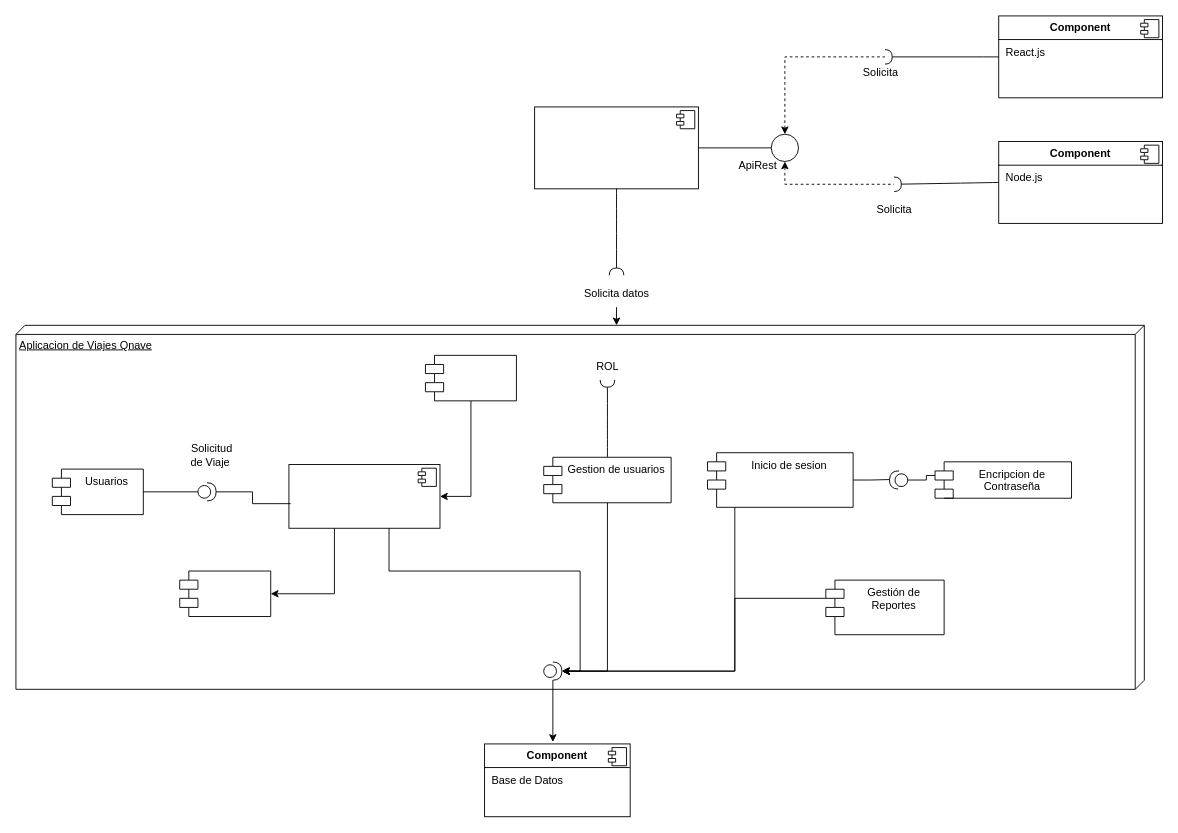
This 1178x833 diagram has some shape labels left out. The box of each missing label's shape, as (x1, y1, x2, y2) in pixels:
Component Gestion de Viajes: (288, 464, 440, 528)
Component Servicio Web: (534, 106, 698, 189)
Conductores: (425, 354, 516, 401)
Método de Pago: (179, 570, 271, 617)
